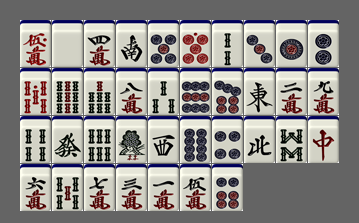0m: (20, 20, 51, 67)
0p: (180, 20, 211, 67)
0s: (20, 68, 51, 115)
1m: (148, 164, 179, 211)
1p: (276, 20, 307, 67)
1s: (116, 116, 147, 163)
1z: (244, 68, 275, 115)
2m: (276, 68, 307, 115)
2p: (308, 20, 339, 67)
2s: (212, 20, 243, 67)
2z: (116, 20, 147, 67)
3m: (116, 164, 147, 211)
3p: (244, 20, 275, 67)
3s: (148, 68, 179, 115)
3z: (148, 116, 179, 163)
4m: (84, 20, 115, 67)
4p: (212, 116, 243, 163)
4s: (20, 116, 51, 163)
4z: (244, 116, 275, 163)
5m: (180, 164, 211, 211)
5p: (148, 20, 179, 67)
5s: (52, 164, 83, 211)
5z: (52, 20, 83, 67)
6m: (20, 164, 51, 211)
6p: (212, 164, 243, 211)
6s: (84, 116, 115, 163)
6z: (52, 116, 83, 163)
7m: (84, 164, 115, 211)
7p: (212, 68, 243, 115)
7s: (84, 68, 115, 115)
7z: (308, 116, 339, 163)
8m: (116, 68, 147, 115)
8p: (180, 116, 211, 163)
8s: (276, 116, 307, 163)
9m: (308, 68, 339, 115)
9p: (180, 68, 211, 115)
9s: (52, 68, 83, 115)
